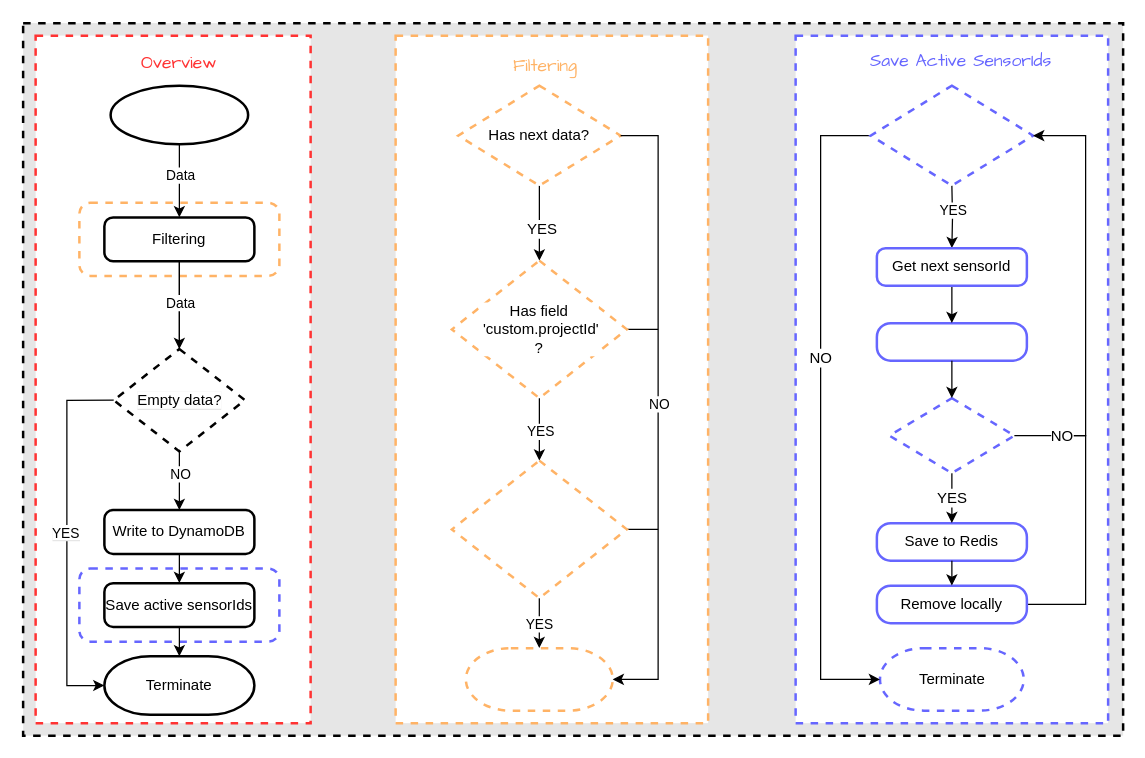
Some shapes in this 1145 by 758 pixel diagram are drawn without their labels. The shapes that lost their labels are listed below. From the top down, each one's centre as x and y in pixels, then its label:
point 179,114: Invoked
point 951,135: Has next sensor?
point 951,341: Acquire Write Lock
point 951,435: Acquired?
point 539,529: Is sensor/subject subscribed ?
point 538,678: Add to target set
